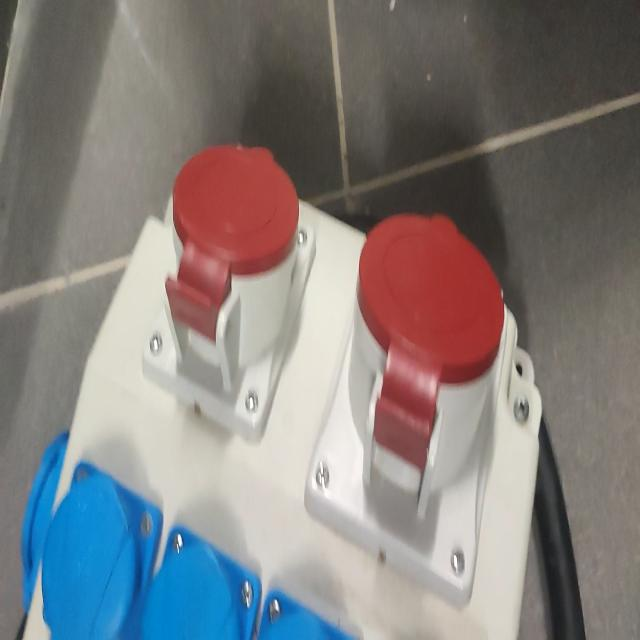400v socket: (304, 216, 508, 606), (137, 145, 318, 439)
house plug covered: (42, 464, 163, 640), (136, 530, 263, 639), (21, 427, 65, 617)
